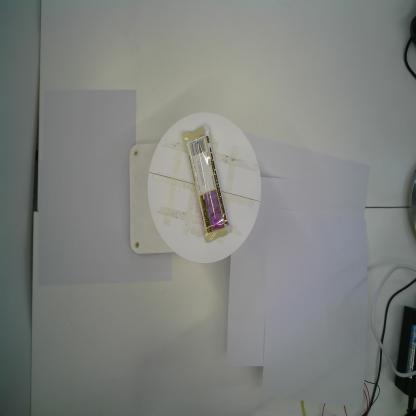Chocolate: (182, 123, 232, 243)
